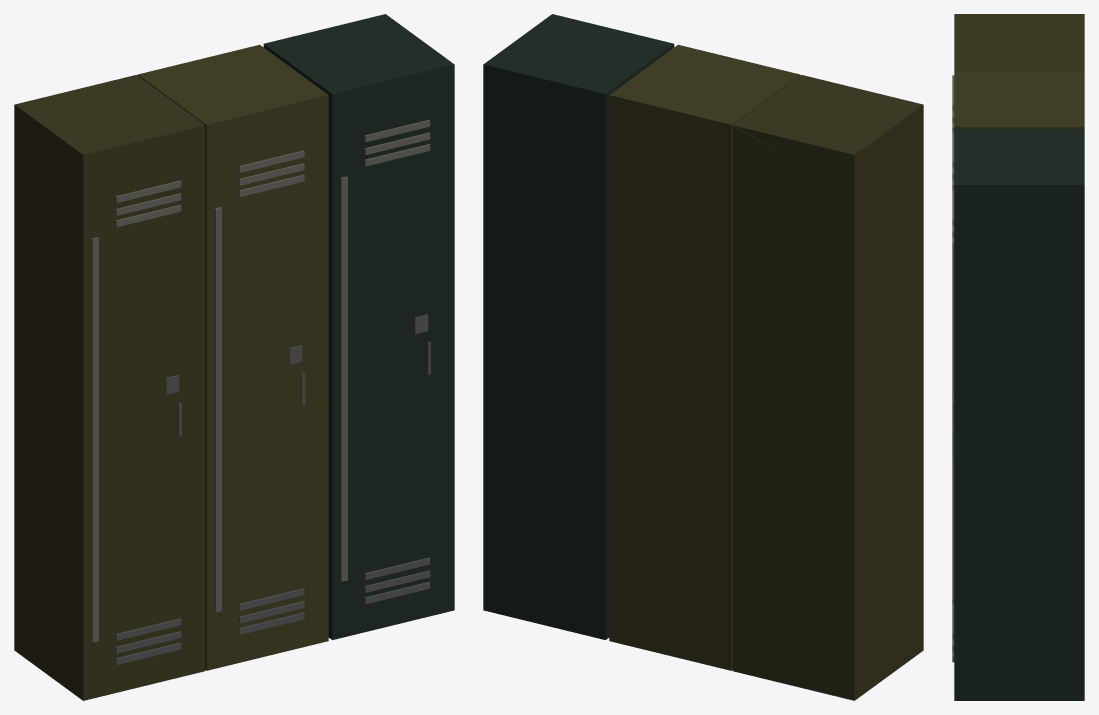
Rendered from casillero 1.fbx.
3 renders of one model, left to right at view 1: azimuth 30°, elevation 25°; view 2: azimuth 150°, elevation 25°; view 3: azimuth 270°, elevation 25°, orthographic. The views are drawn at different scales.
Visible parts, largest first — view 1: Cube_4.003, Cube_4.001, Cube_4; view 2: Cube_4.003, Cube_4.001, Cube_4; view 3: Cube_4.001, Cube_4, Cube_4.003.
Boxes of the visible parts, x1=… form: Cube_4.003: x1=14, y1=75, x2=205, y2=700; Cube_4.001: x1=263, y1=14, x2=454, y2=639; Cube_4: x1=137, y1=44, x2=328, y2=670; Cube_4.003: x1=732, y1=75, x2=923, y2=700; Cube_4.001: x1=483, y1=14, x2=674, y2=639; Cube_4: x1=609, y1=44, x2=800, y2=670; Cube_4.001: x1=952, y1=129, x2=1084, y2=700; Cube_4: x1=952, y1=70, x2=1084, y2=603; Cube_4.003: x1=952, y1=14, x2=1084, y2=132.
Size of the model in its own units: 193 by 271 by 62.81.
